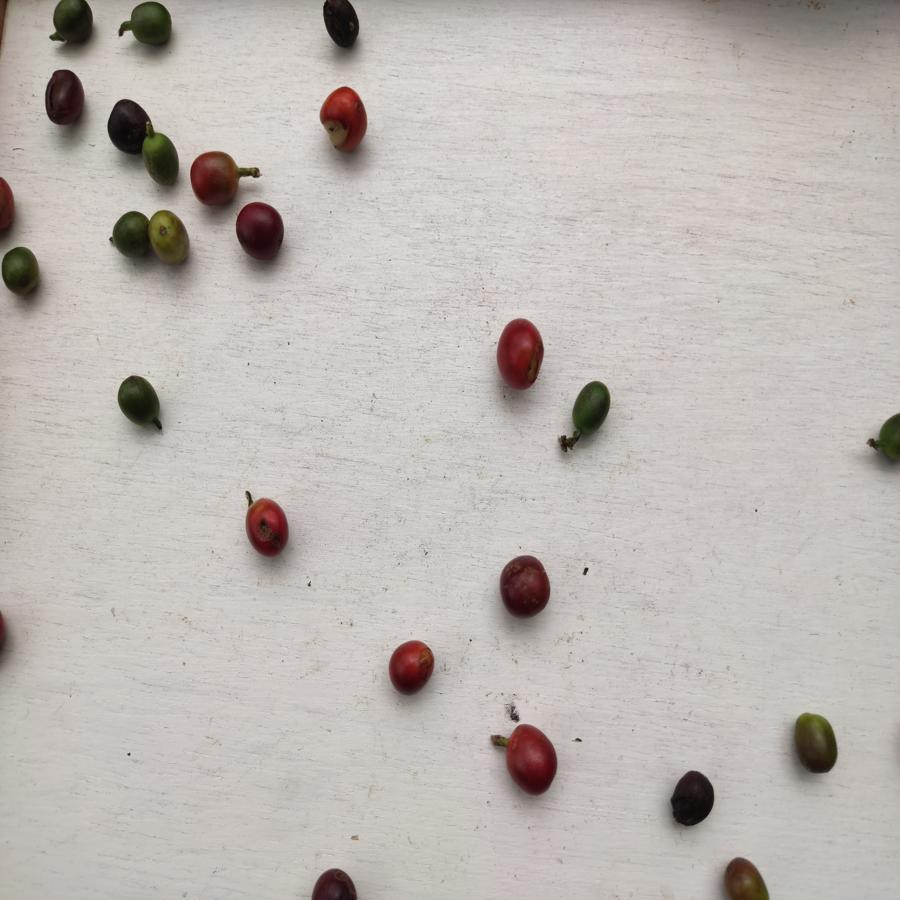Inmaduro: (568, 378, 616, 442), (116, 375, 163, 433), (126, 2, 178, 49), (1, 244, 46, 298), (143, 132, 182, 189), (112, 209, 150, 266), (52, 1, 94, 49), (878, 409, 900, 470)
Maduro: (502, 721, 561, 796), (495, 317, 547, 395), (318, 85, 371, 154), (243, 496, 294, 560), (190, 150, 242, 208), (388, 638, 436, 698)
Pinton: (793, 708, 841, 778), (147, 208, 193, 268), (723, 853, 773, 900)
Sobremaduro: (496, 553, 553, 623), (234, 200, 289, 264), (671, 767, 715, 829), (43, 68, 86, 126), (106, 96, 144, 154), (322, 1, 362, 50), (313, 866, 359, 900)
